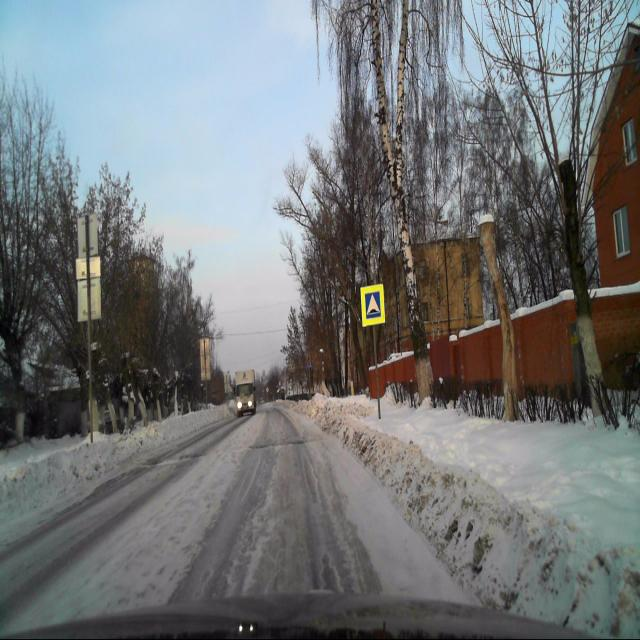road sign: (361, 284, 384, 327)
